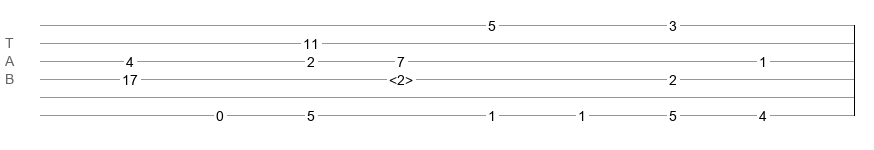0: (216, 108, 224, 118)
1: (488, 108, 496, 118), (578, 108, 586, 118), (759, 54, 767, 64)
11: (303, 36, 319, 46)
17: (122, 72, 138, 82)
2: (307, 54, 315, 64), (669, 72, 677, 82)
3: (669, 18, 677, 28)
4: (126, 54, 134, 64), (759, 108, 767, 118)
5: (307, 108, 315, 118), (488, 18, 496, 28), (669, 108, 677, 118)
7: (397, 54, 405, 64)
harmonic: (389, 72, 413, 82)
